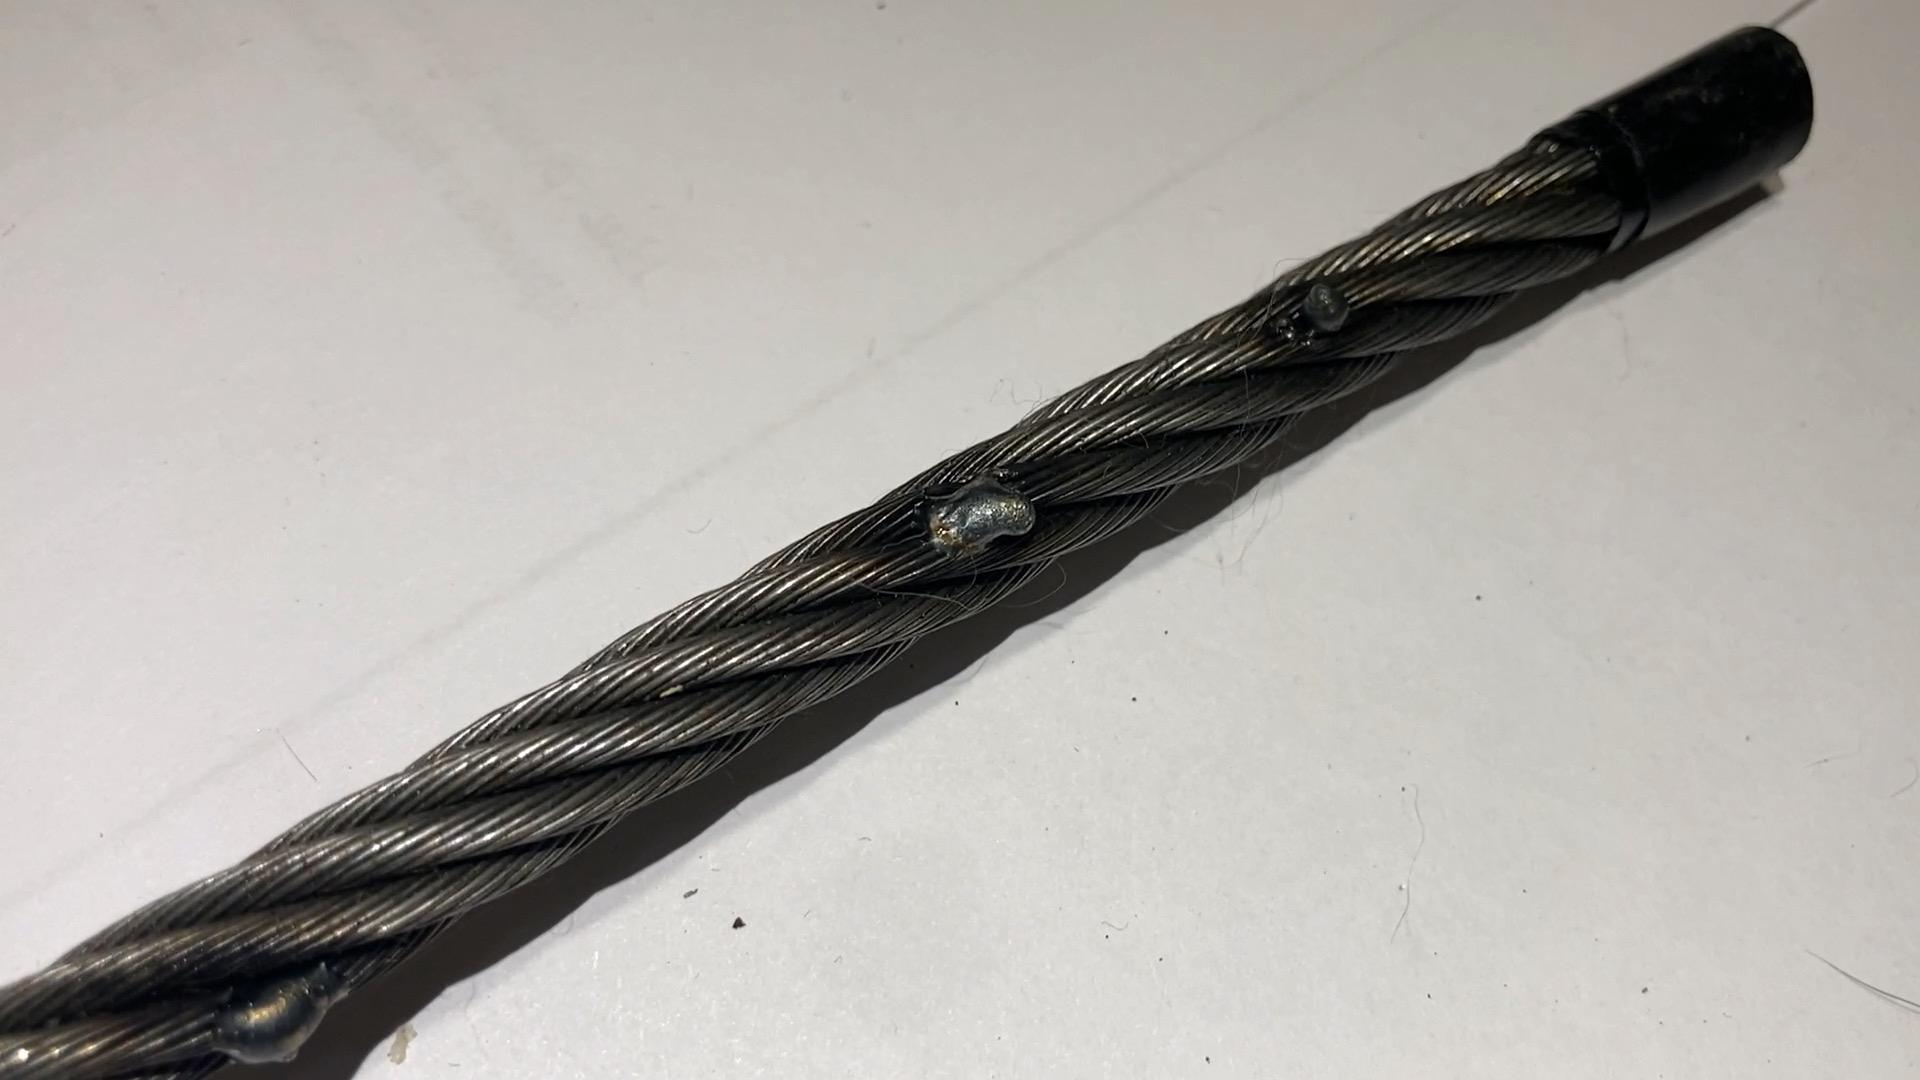thunderbolt: (924, 467, 1040, 560), (1284, 287, 1350, 347)
